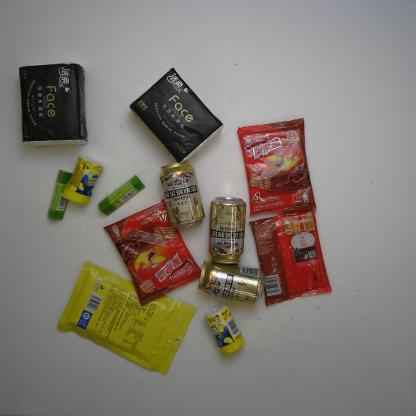Alcohol: (159, 160, 205, 229), (196, 261, 265, 304), (204, 196, 247, 264)
Dessert: (100, 200, 200, 306), (249, 213, 334, 308), (236, 117, 318, 215)
Dried Fruit: (55, 259, 197, 375)
Gum: (64, 156, 104, 206), (205, 304, 242, 355)
Stationery: (96, 176, 146, 216), (46, 168, 72, 220)
Tissue: (128, 66, 222, 163), (18, 62, 87, 149)
